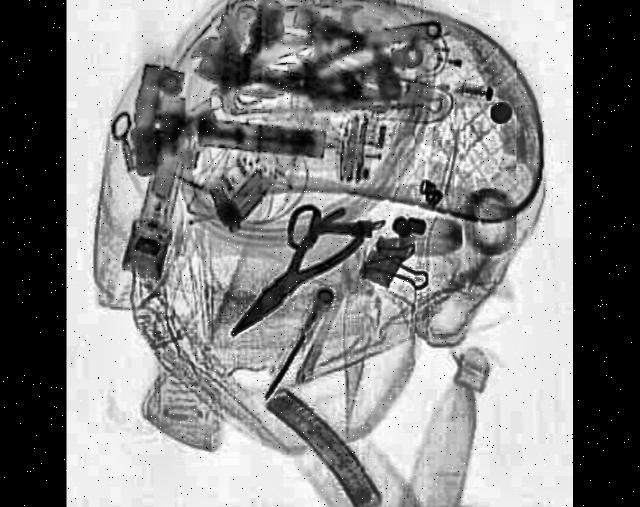Pliers: (218, 196, 366, 356)
Wrench: (188, 0, 442, 94)
